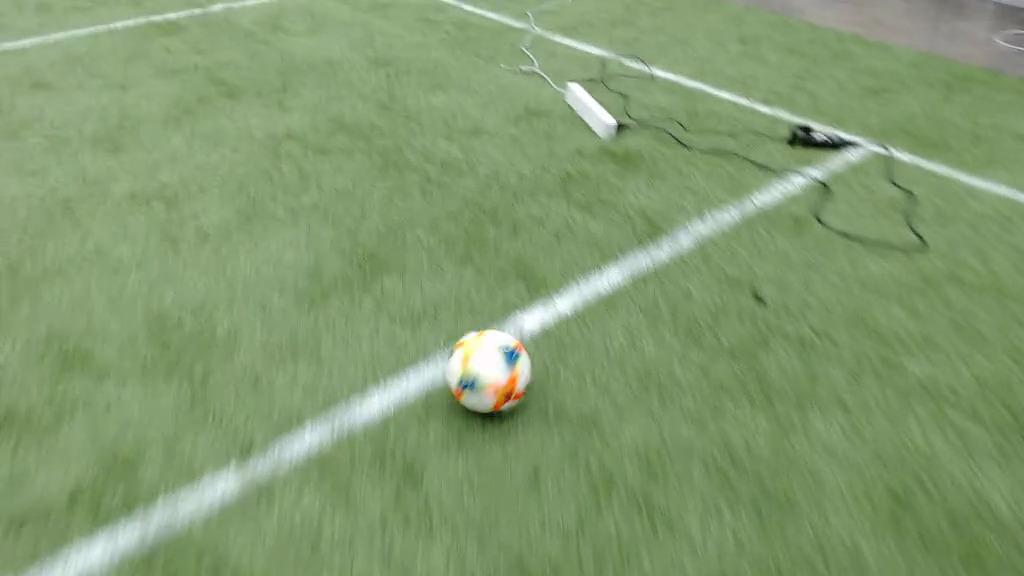ball: (447, 331, 532, 415)
